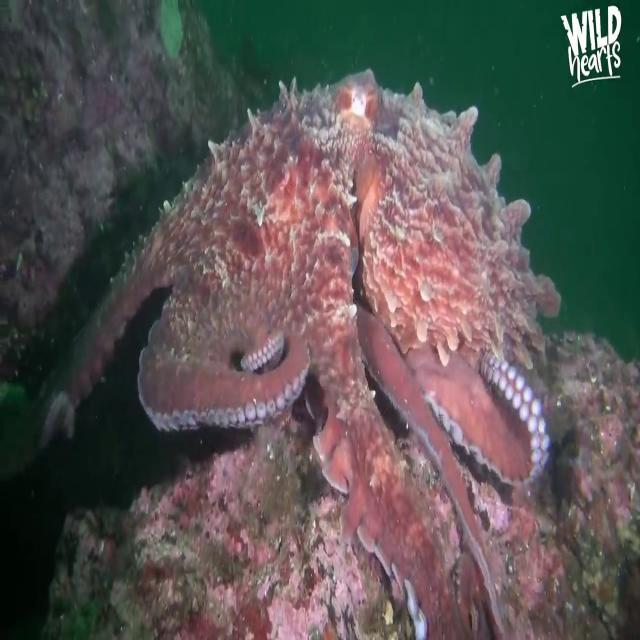octopus: (2, 53, 566, 640)
